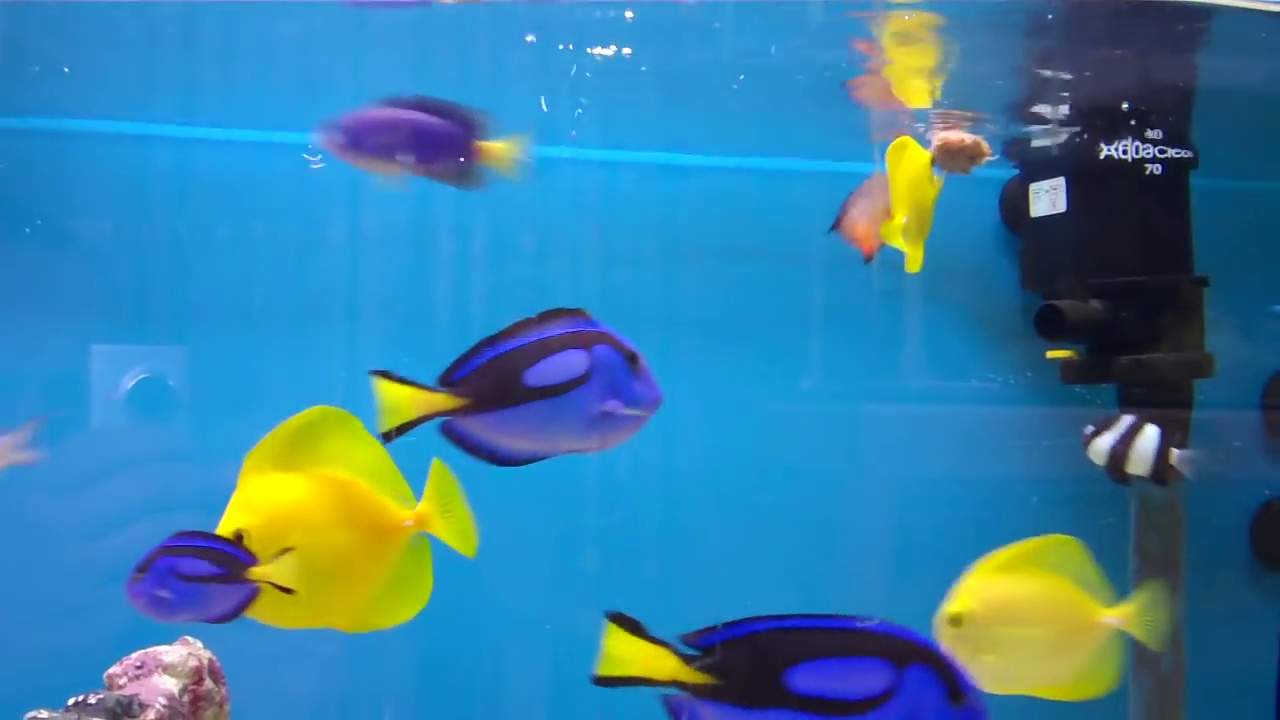blue tang surgeonfish: (371, 296, 671, 476), (106, 518, 290, 646)
saddle butterfly fish: (201, 398, 470, 636), (900, 514, 1174, 710)
